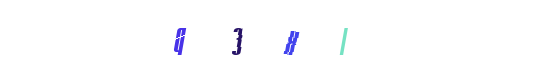1: (250, 0, 330, 80)
3: (198, 0, 278, 80)
Q: (194, 0, 274, 80)
X: (235, 0, 315, 80)
